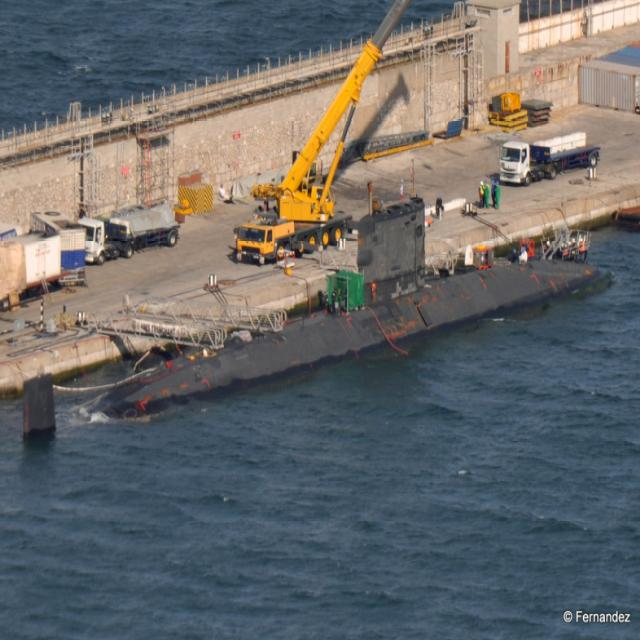submarine: (22, 194, 620, 439)
